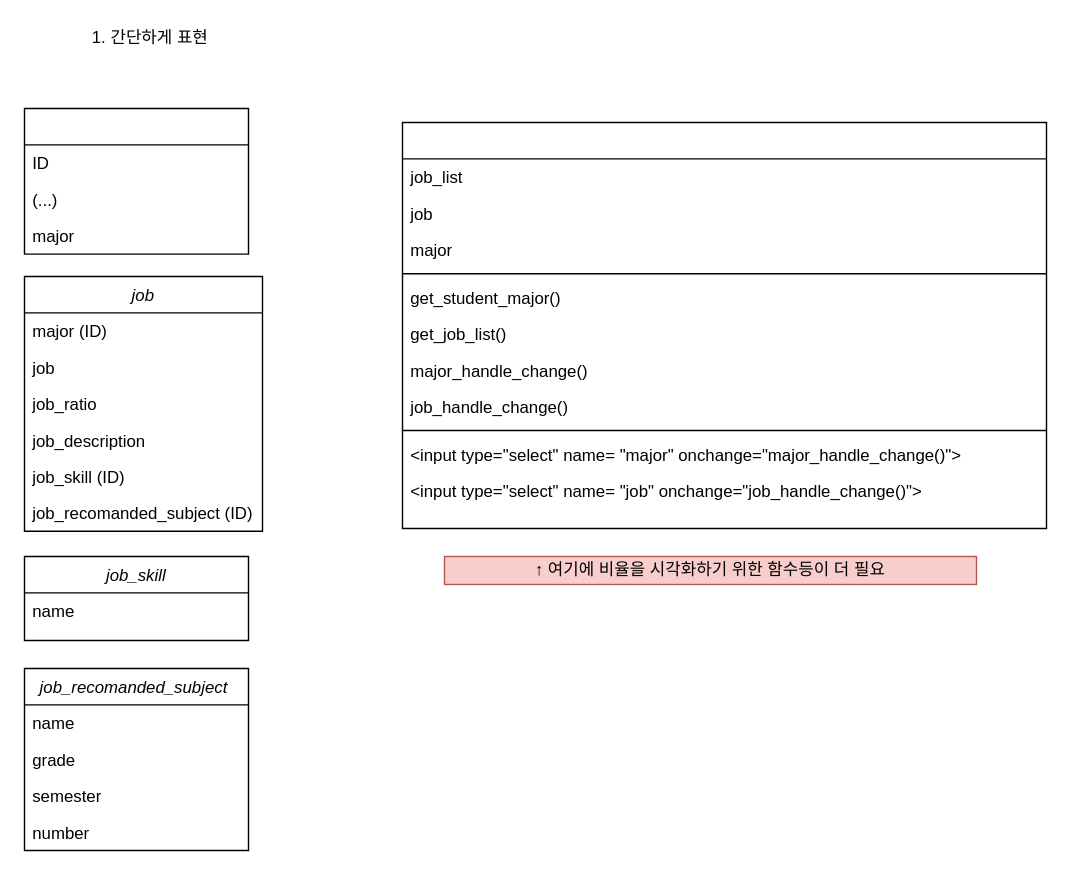
This 1071x878 diagram has some shape labels left out. The shapes that lost their labels are listed below. From the top down, each one's box as (x1, y1, x2, y2) in pixels, then its label:
(23, 107, 248, 254): student
(401, 121, 1046, 528): career_form
